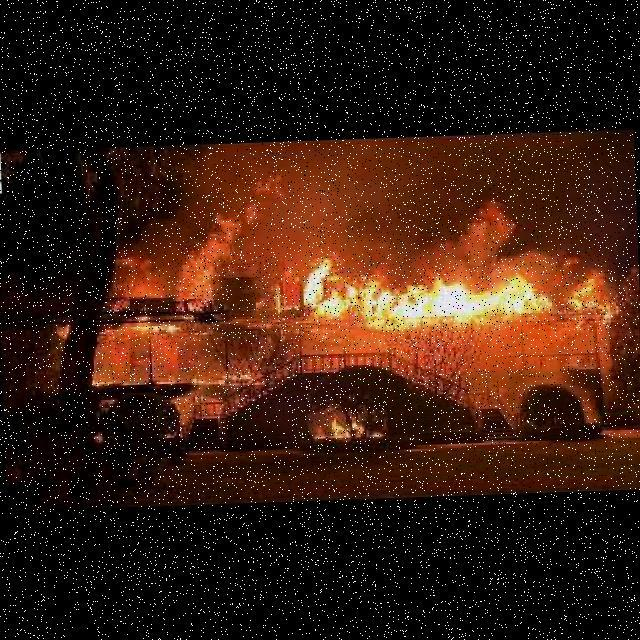Fire: (248, 190, 617, 339), (95, 165, 295, 342), (313, 413, 350, 436), (218, 368, 263, 386), (351, 415, 364, 437), (152, 369, 174, 382), (94, 373, 116, 382), (192, 372, 208, 383), (372, 428, 384, 434)
